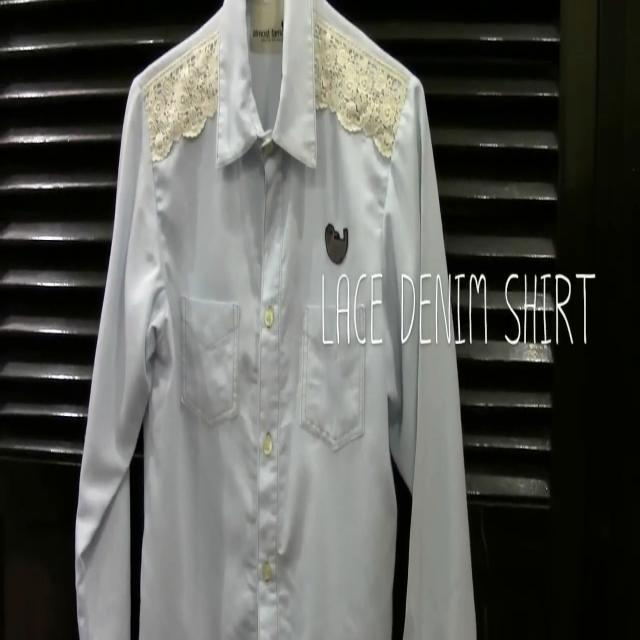shirt: (75, 0, 478, 640)
